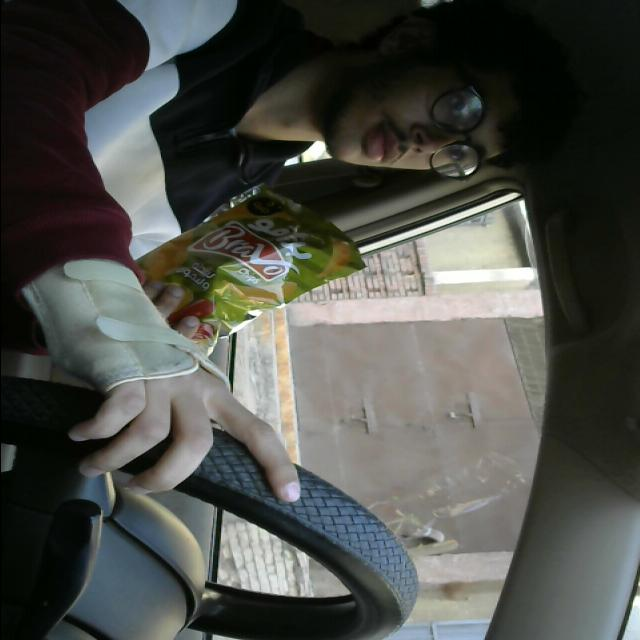eating: (113, 192, 373, 372)
